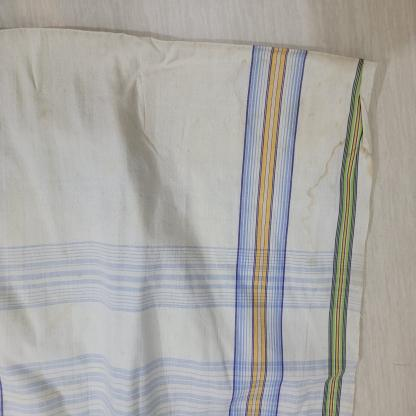spot: (330, 178, 368, 270), (308, 156, 338, 270), (332, 132, 374, 186), (237, 57, 251, 124), (337, 95, 343, 105), (308, 110, 315, 118), (317, 80, 324, 88)
